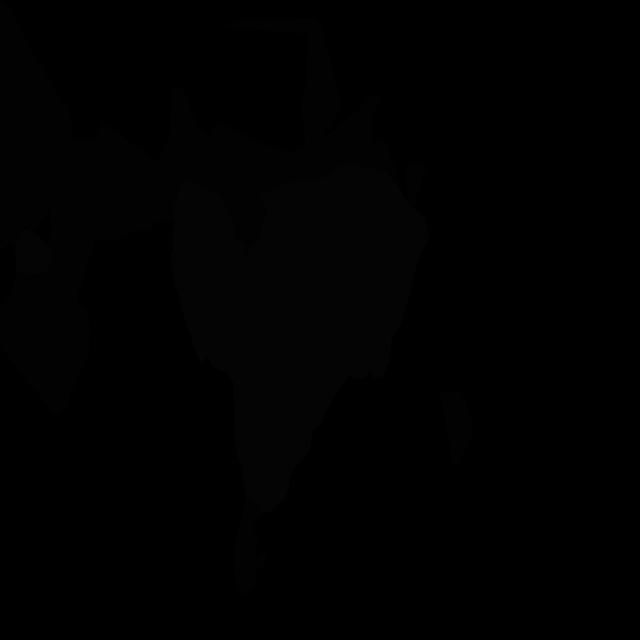cardboard: (157, 86, 357, 257), (28, 123, 162, 301), (0, 0, 74, 252), (225, 17, 342, 131), (0, 267, 90, 414), (328, 93, 398, 183), (233, 496, 266, 594), (440, 391, 473, 467), (406, 163, 427, 208)
soft_plastic: (171, 179, 369, 513), (259, 163, 429, 378), (15, 229, 54, 275)
